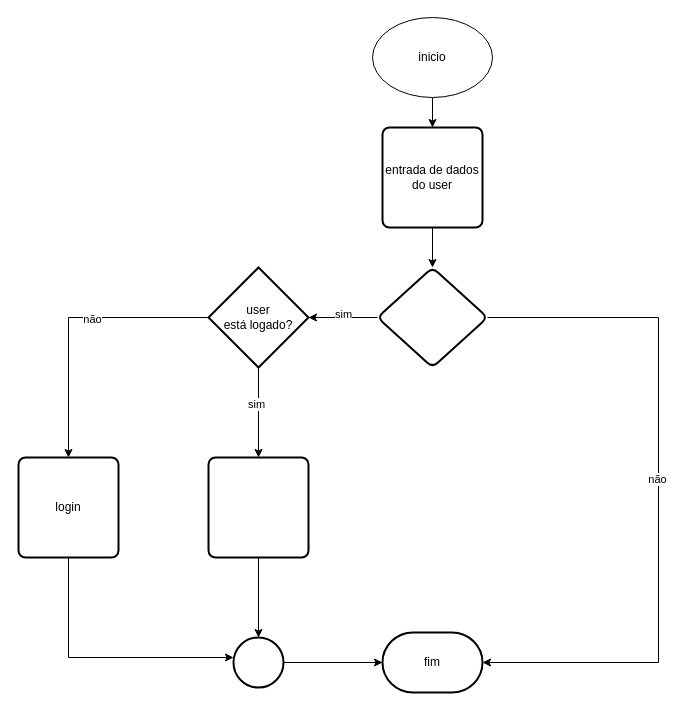
Image size: 684x711. Some labels were removed from this diagram. The shapes that lost their labels are listed below. From the top down, each one's box as (x1, y1, x2, y2) in pixels, then its label:
(376, 266, 488, 368): user está cadastrado?
(207, 456, 309, 558): logout
